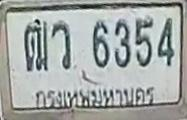3: (114, 19, 130, 67)
4: (157, 17, 174, 66)
5: (134, 17, 154, 66)
6: (92, 20, 109, 67)
A18: (24, 18, 48, 72)
A37: (51, 20, 71, 69)
BKK: (33, 84, 157, 111)
